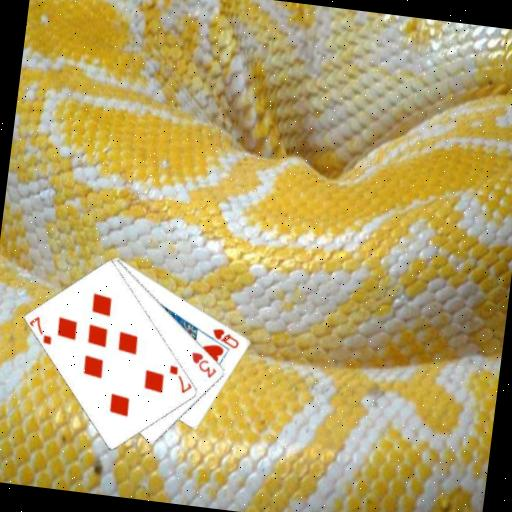3H: (186, 349, 221, 381)
7D: (164, 361, 195, 396), (25, 313, 56, 347)
QH: (208, 324, 243, 351)
